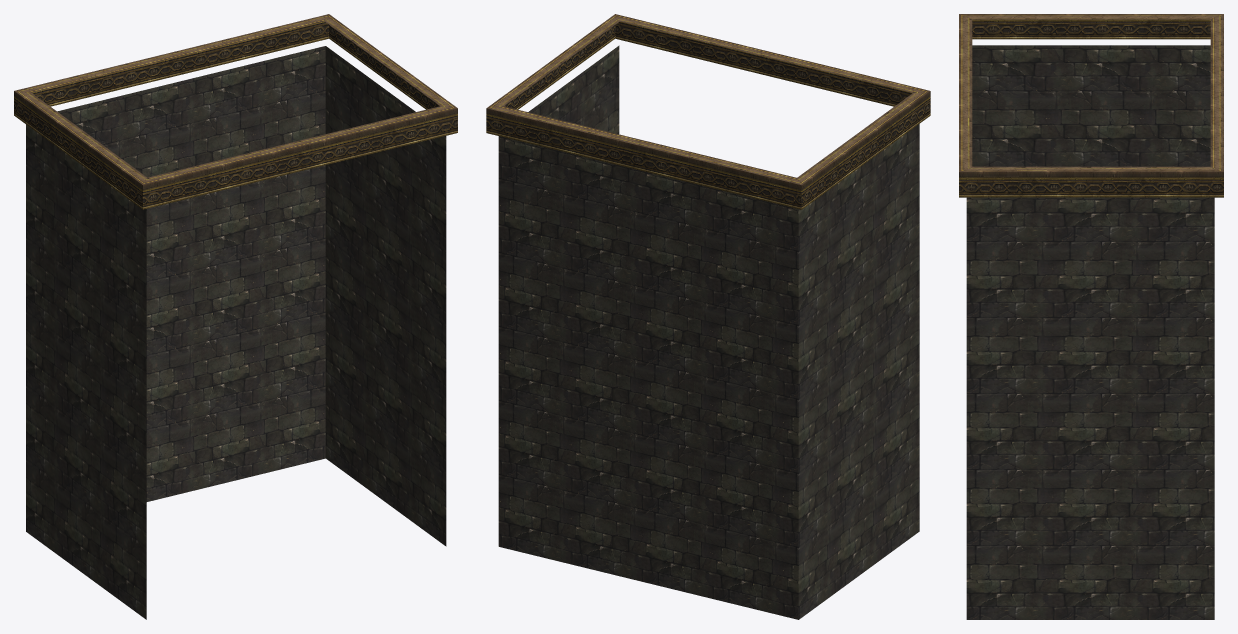
File: A03_battle_a_far.FBX
The picture shows the model from 3 angles, left to right: view 1: azimuth 30°, elevation 25°; view 2: azimuth 150°, elevation 25°; view 3: azimuth 270°, elevation 25°; orthographic projection. The views are drawn at different scales.
Parts seen in each view (by area): view 1: A03_battle_a_far; view 2: A03_battle_a_far; view 3: A03_battle_a_far.
Part boxes in pixels (<box>): A03_battle_a_far: <box>14,14,457,619</box>; A03_battle_a_far: <box>486,14,930,619</box>; A03_battle_a_far: <box>959,14,1223,619</box>.
Bounding box in the file's own units: 12.69 × 16.91 × 8.98.
